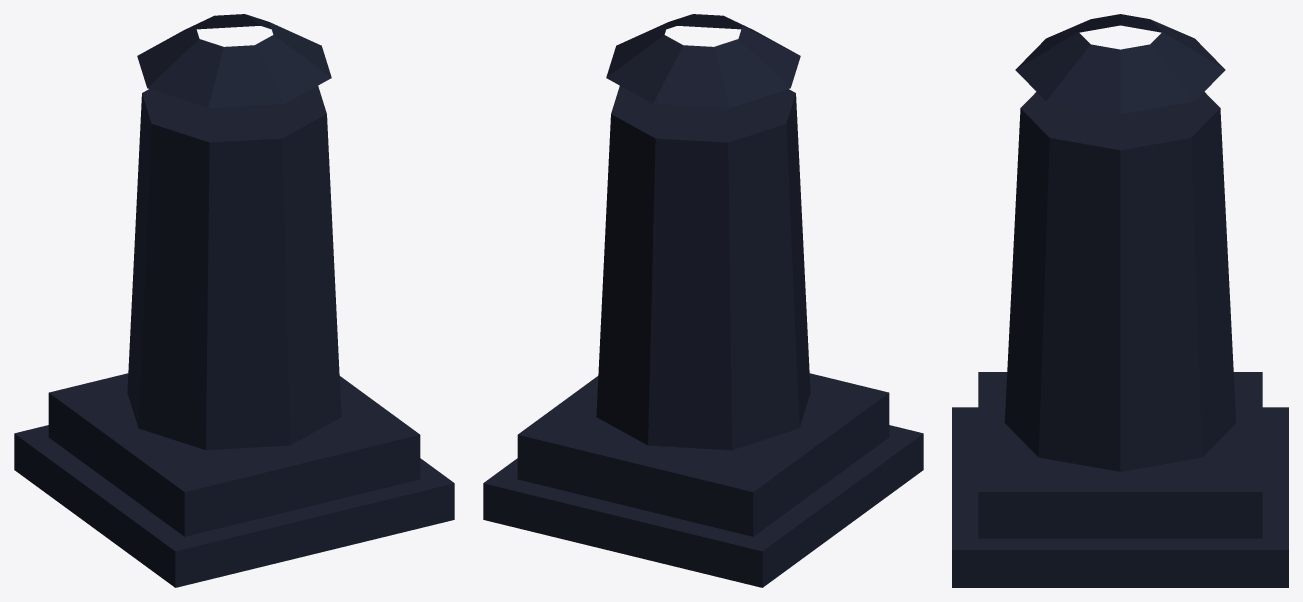
The model's file is Pedestal.obj.
3 renders of one model, left to right at view 1: azimuth 30°, elevation 25°; view 2: azimuth 150°, elevation 25°; view 3: azimuth 270°, elevation 25°, orthographic. The views are drawn at different scales.
Visible parts, largest first — view 1: EXPORT_Pedestal; view 2: EXPORT_Pedestal; view 3: EXPORT_Pedestal.
Part boxes in pixels (x1,y1,x2,y2): EXPORT_Pedestal: (14,14,454,587); EXPORT_Pedestal: (483,14,923,587); EXPORT_Pedestal: (952,14,1288,587).
Bounding box in the file's own units: 0.64 × 1.02 × 0.64.
